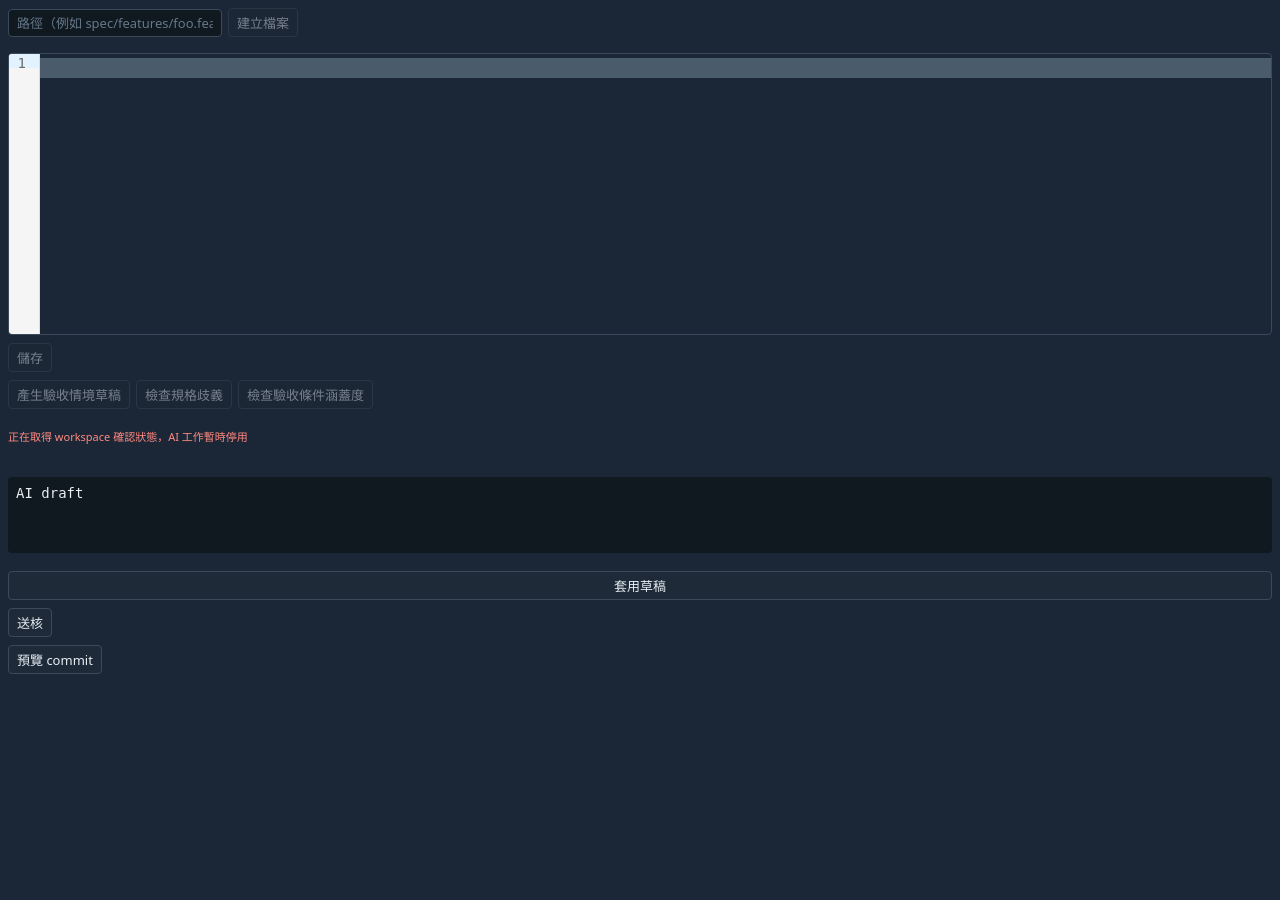
SpecWorkspace 非同步儲存契約（A1a-1，expected-red） › T14e：acceptDraft 失敗——saved／digest 不變、buffer 保留接受後內容
This screenshot has width=1280, height=900.
What coordinates should you click on to do the following:
click the button with test id "accept-draft"
I would click on:
 (640, 586)
Its box is top-left (8, 571), bottom-right (1272, 600).
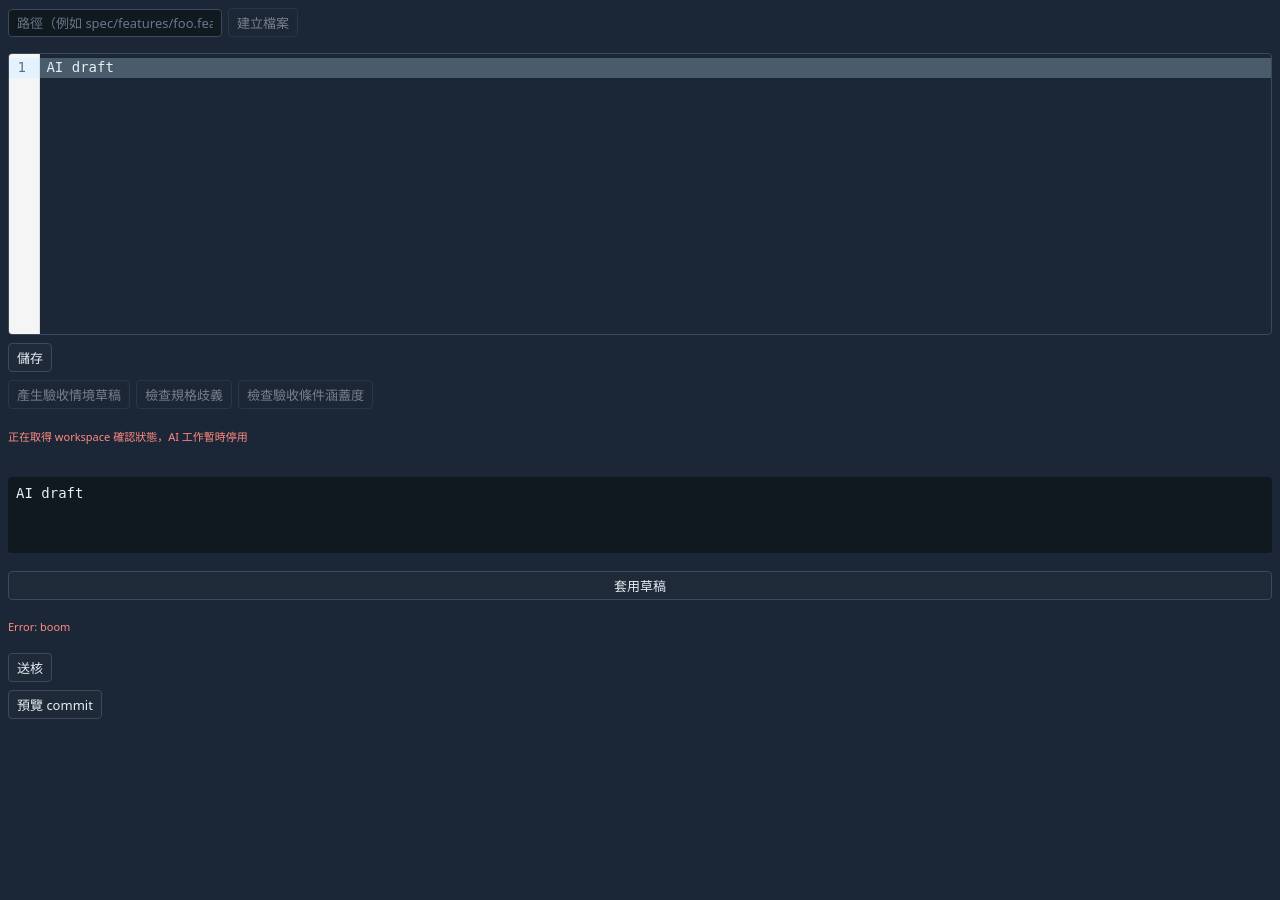
Expected: the text box labelled "AI draft" is shown, top-left (40, 58), bottom-right (1271, 78)
Expected: the button with test id "save" is enabled, top-left (8, 343), bottom-right (52, 372)
